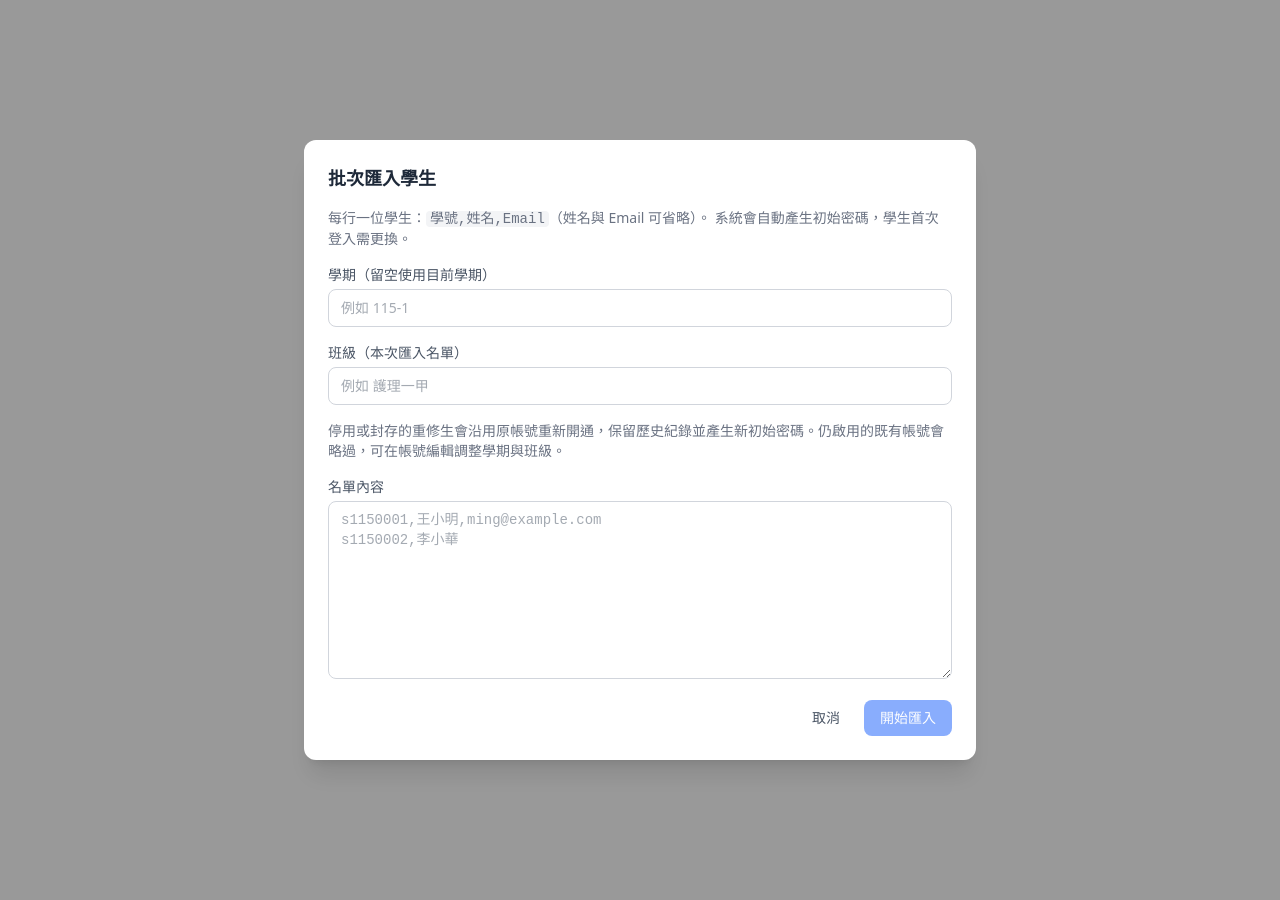
UserImportDialog › shows restored accounts with their initial passwords and a note
In the text box labelled "名單內容": (640, 590) [328, 501, 952, 679], type "old_user1,舊生"
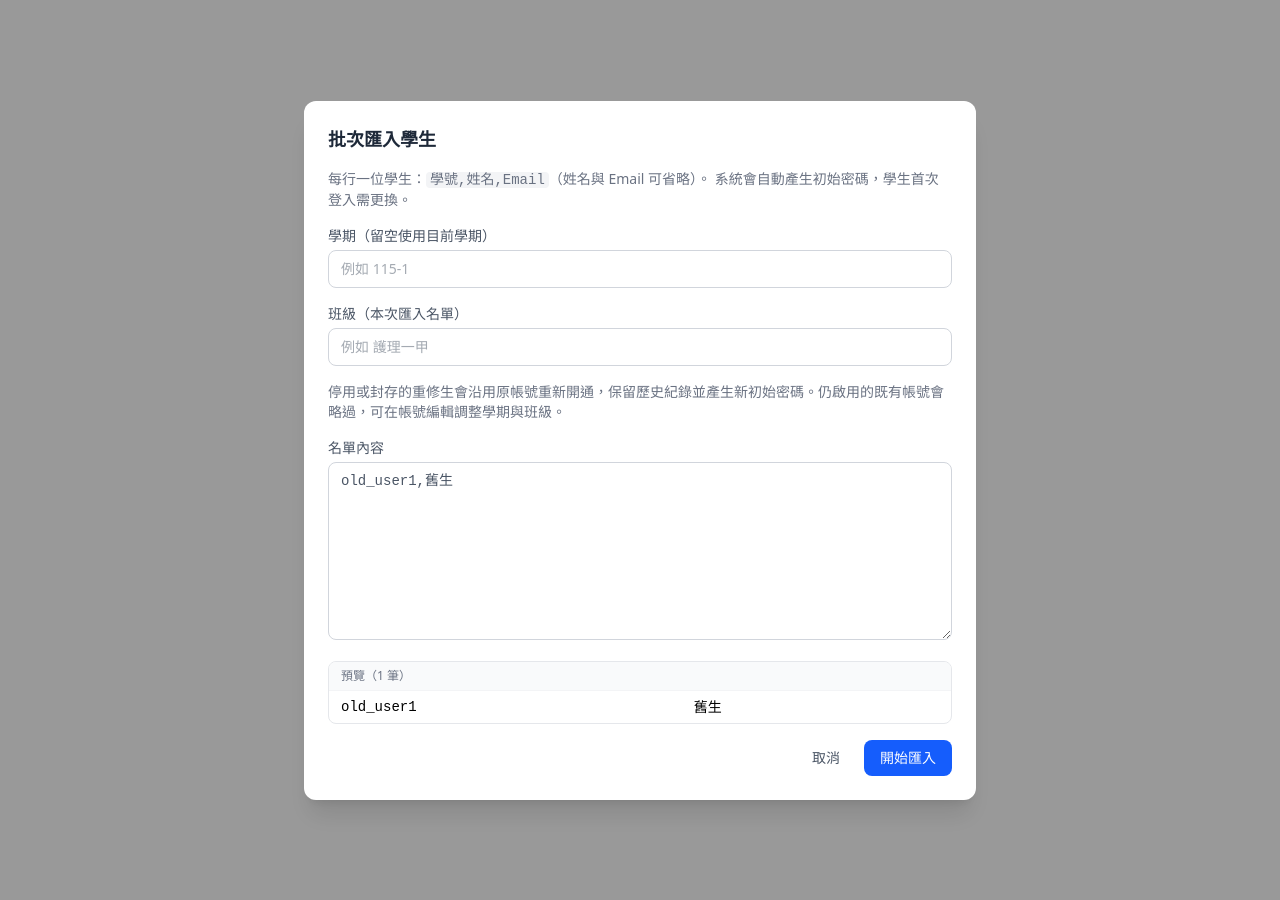
Click the button "開始匯入": click(908, 758) [864, 740, 952, 776]
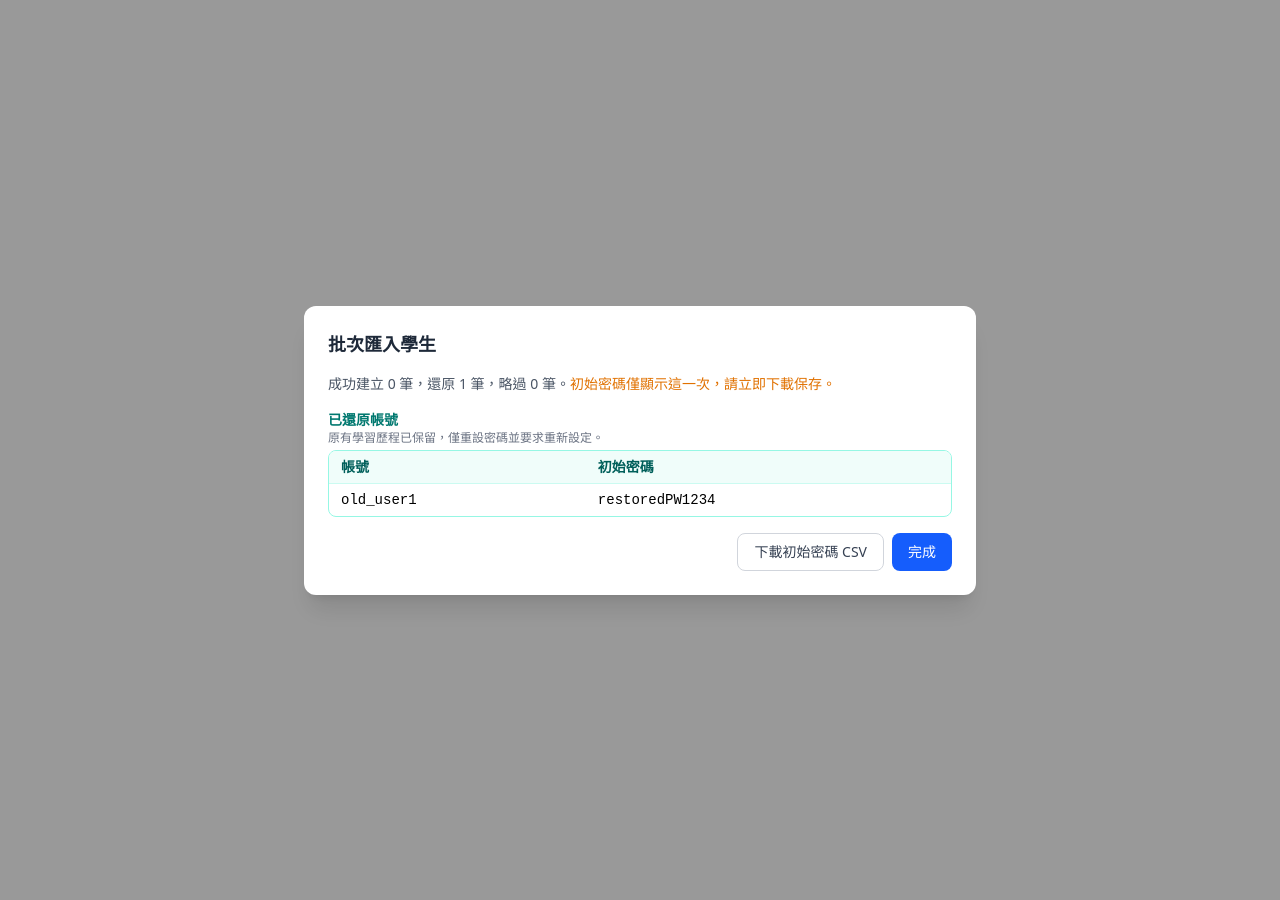
Expected: the text "old_user1" is shown, [329, 483, 586, 516]
Expected: the heading "已還原帳號" is shown, [328, 410, 398, 428]
Expected: the text "restoredPW1234" is shown, [586, 483, 951, 516]
